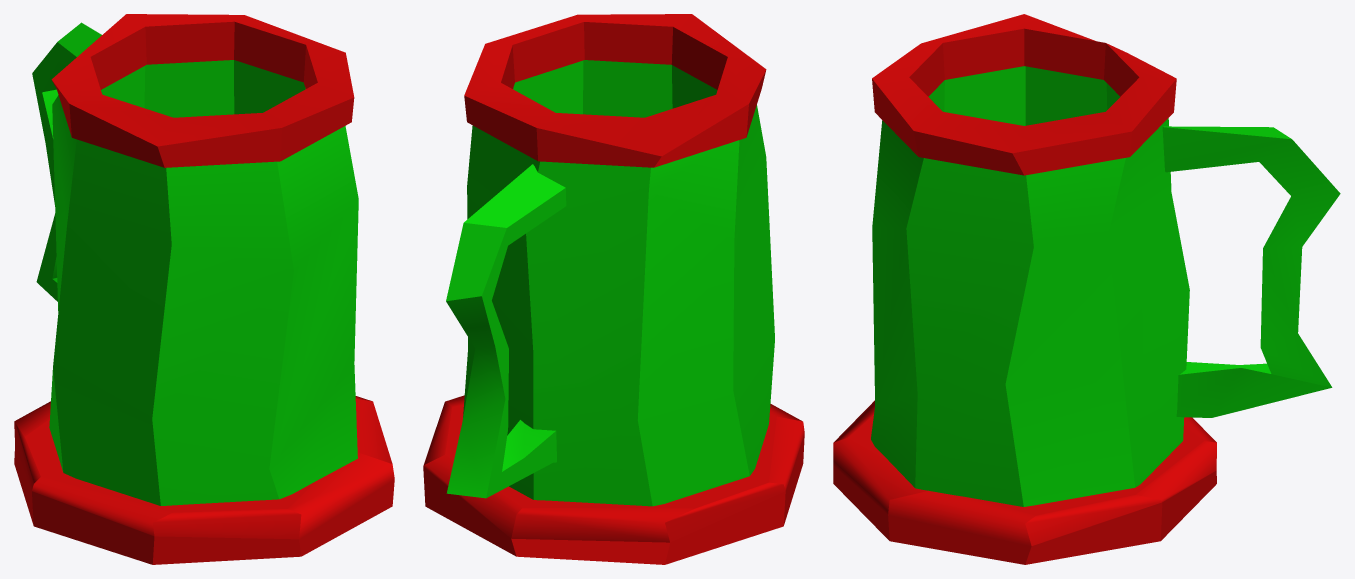
File: Low_Env_Tankard.fbx
The picture shows the model from 3 angles, left to right: view 1: azimuth 30°, elevation 25°; view 2: azimuth 150°, elevation 25°; view 3: azimuth 270°, elevation 25°; orthographic projection. The views are drawn at different scales.
Parts seen in each view (by area): view 1: Low_Env_Tankard; view 2: Low_Env_Tankard; view 3: Low_Env_Tankard.
Boxes of the visible parts, x1,y1,x2,y2 form: Low_Env_Tankard: (14, 14, 394, 564); Low_Env_Tankard: (423, 14, 804, 564); Low_Env_Tankard: (833, 14, 1340, 564).
Bounding box in the file's own units: 0.4012 × 0.4662 × 0.5246.
